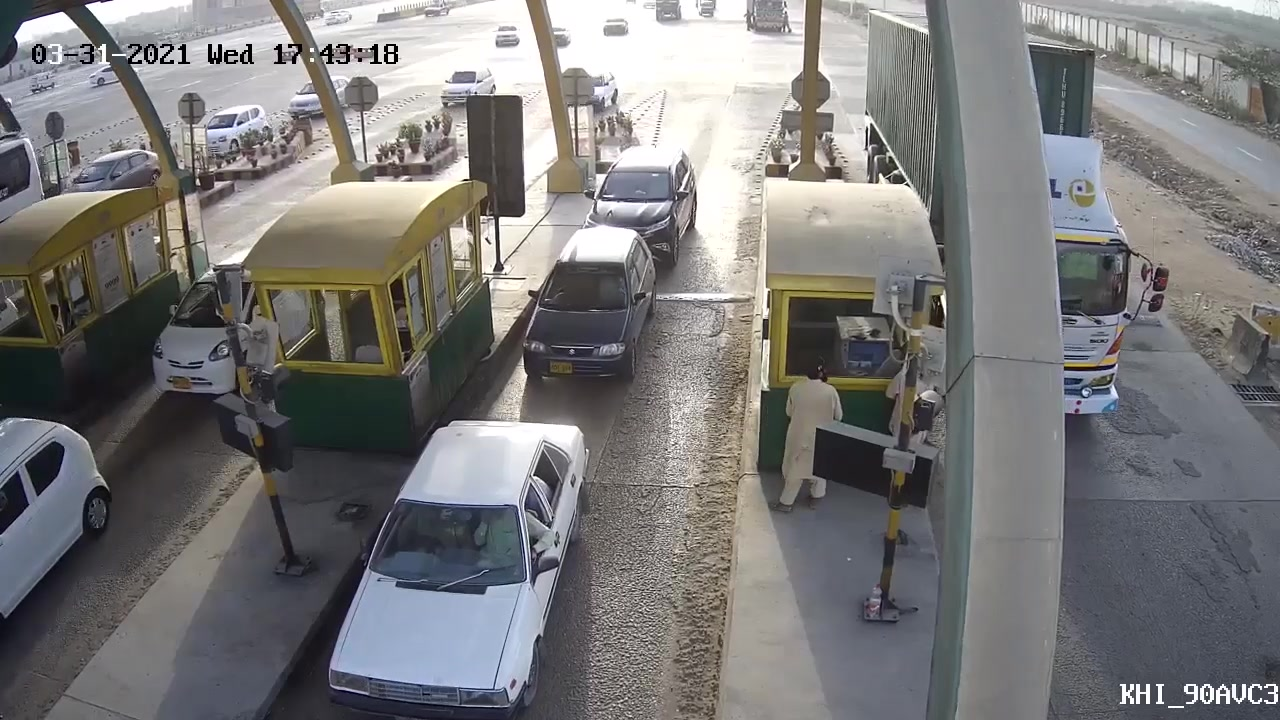F1: (321, 420, 595, 714), (520, 223, 659, 390), (580, 142, 705, 260)
